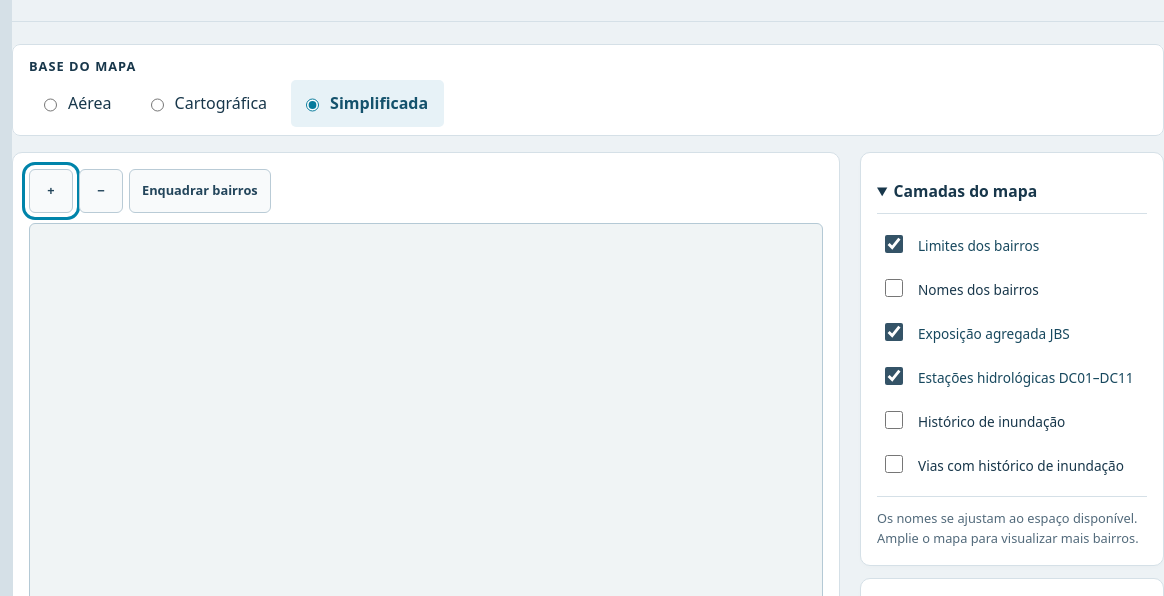
it: Fase 07 — regressão funcional do mapa migrado › controles HTML navegam e selecionam por teclado
The width and height of the screenshot is (1164, 596).
Press Enter
Click the button "Enquadrar bairros".
click(200, 191)  # box left=129, top=169, right=271, bottom=213
(page scrolled)
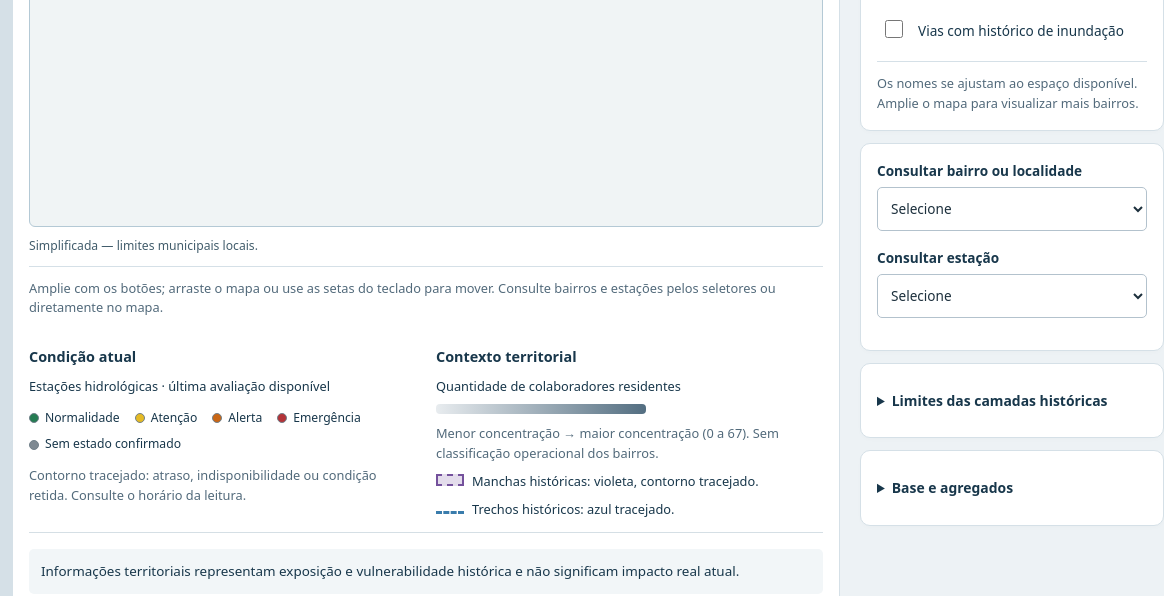
Select "DC01 · Rio Itajaí-Açu - ICMBio/CEPSUL · Atenção" in the dropdown labelled "Consultar estação" at (1012, 296), box left=877, top=274, right=1147, bottom=318
(page scrolled)
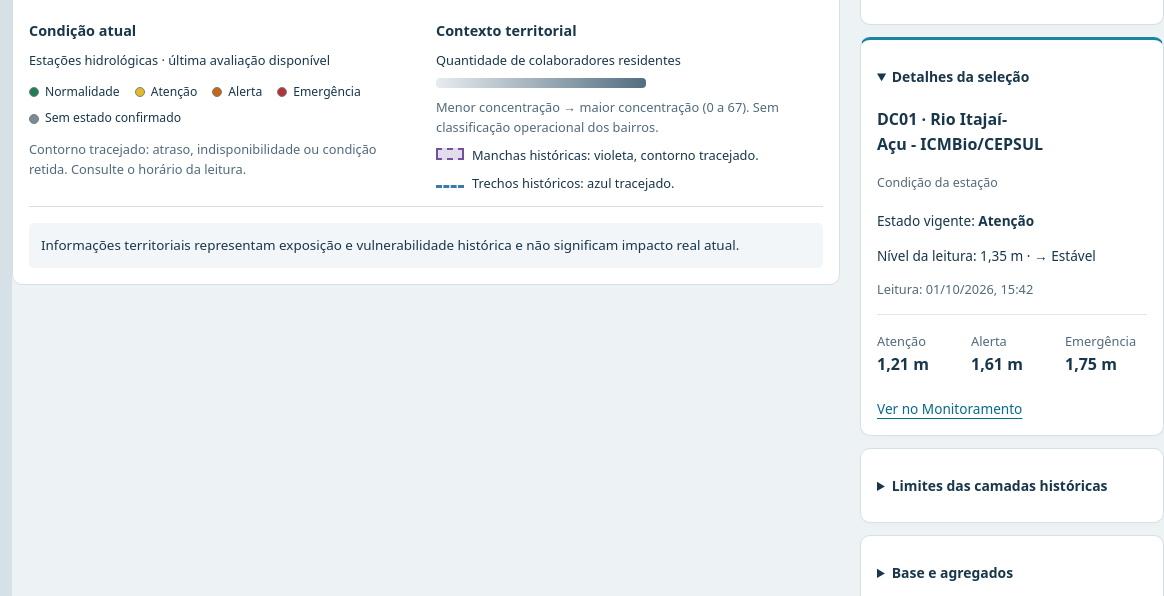
Check: the element named "Detalhe DC01" is shown, box left=877, top=107, right=1147, bottom=419
